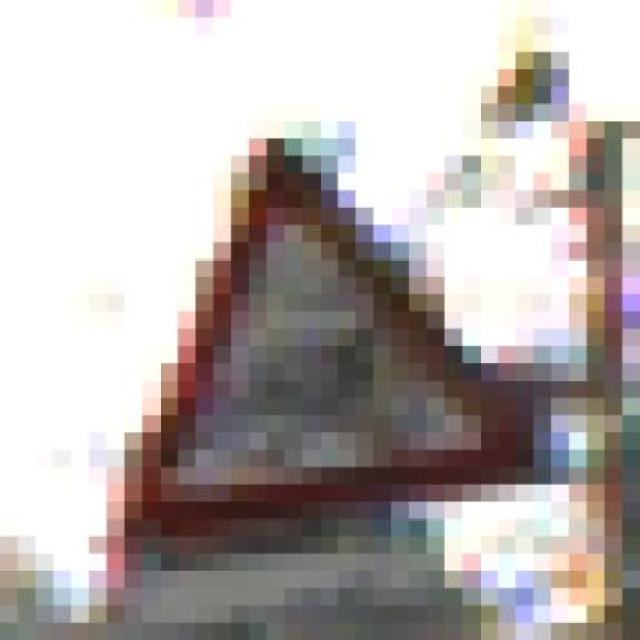CYCLE ROUTE AHEAD WARNING: (89, 138, 586, 554)
